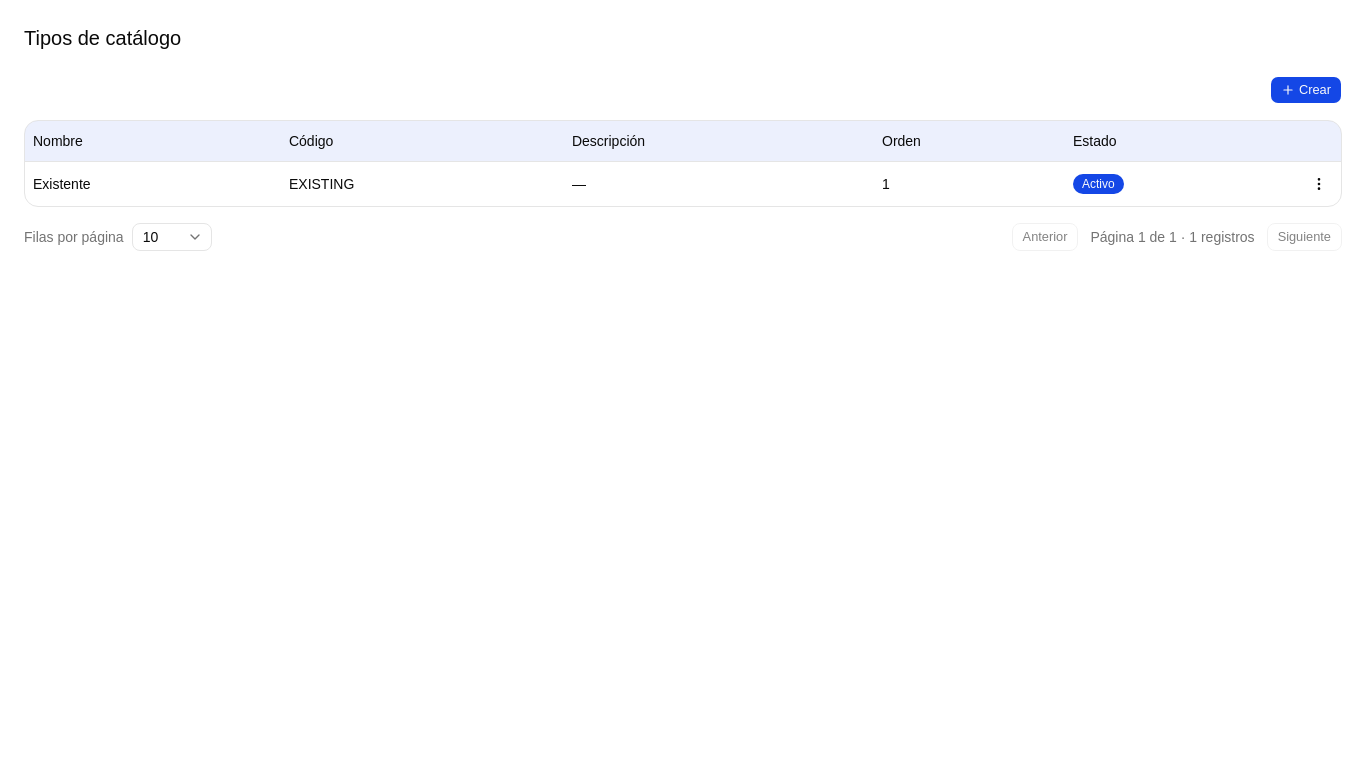
Test: CatalogTypeListPage — crear › crear un tipo lo hace aparecer en la tabla sin recargar
Expected: the text "Existente" is shown, [25, 161, 281, 206]
Click the button "Crear" at (1306, 90), box [1270, 76, 1342, 104]
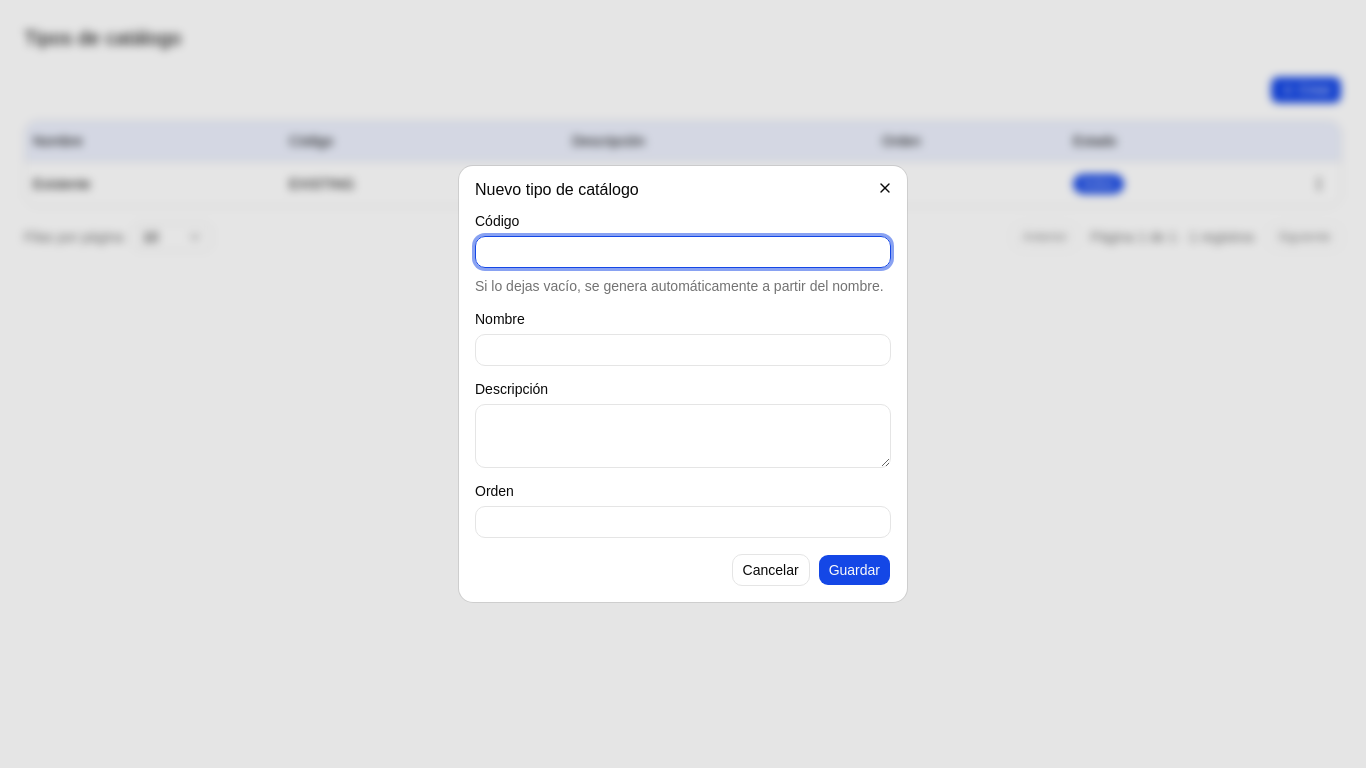
Type "Tipo nuevo" into the field labelled "Nombre" at (683, 350), box [475, 334, 891, 366]
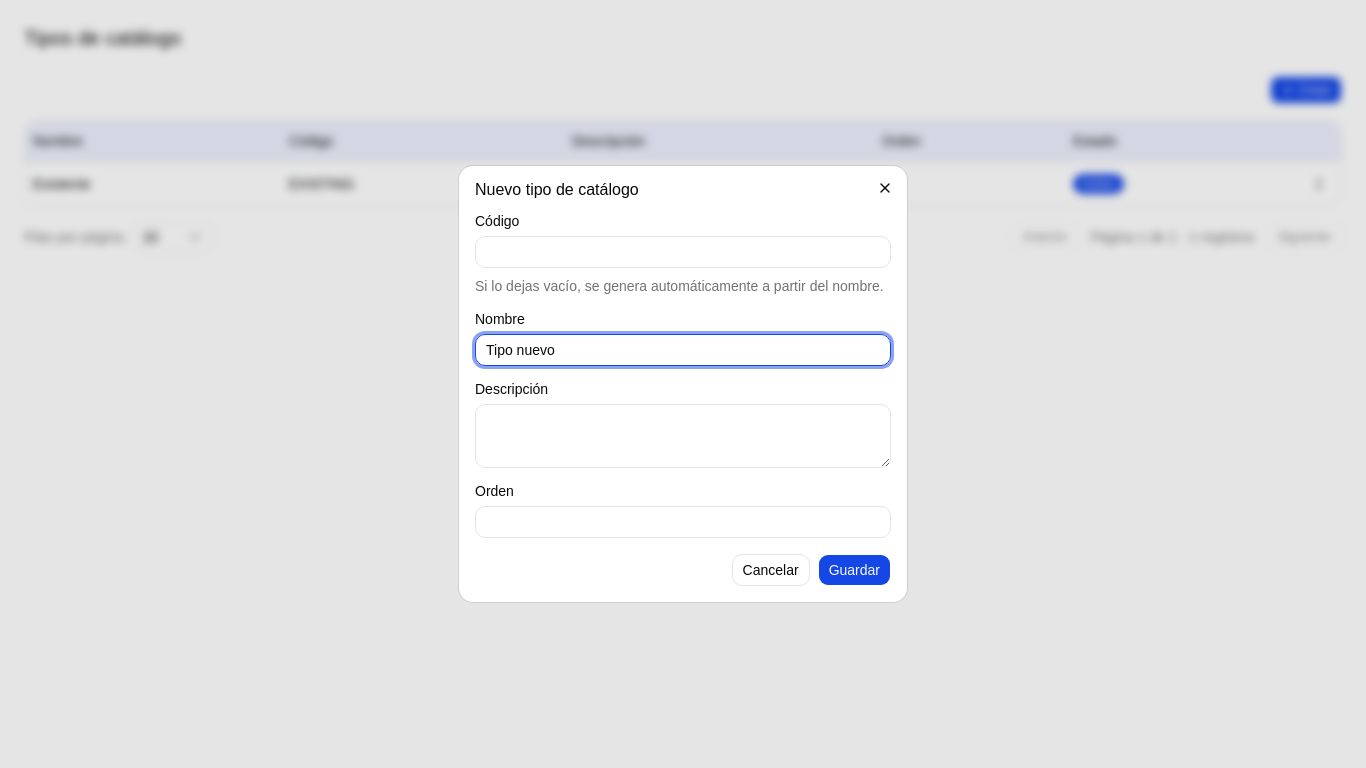
Click the button "Guardar" at (854, 570), box [818, 554, 891, 586]
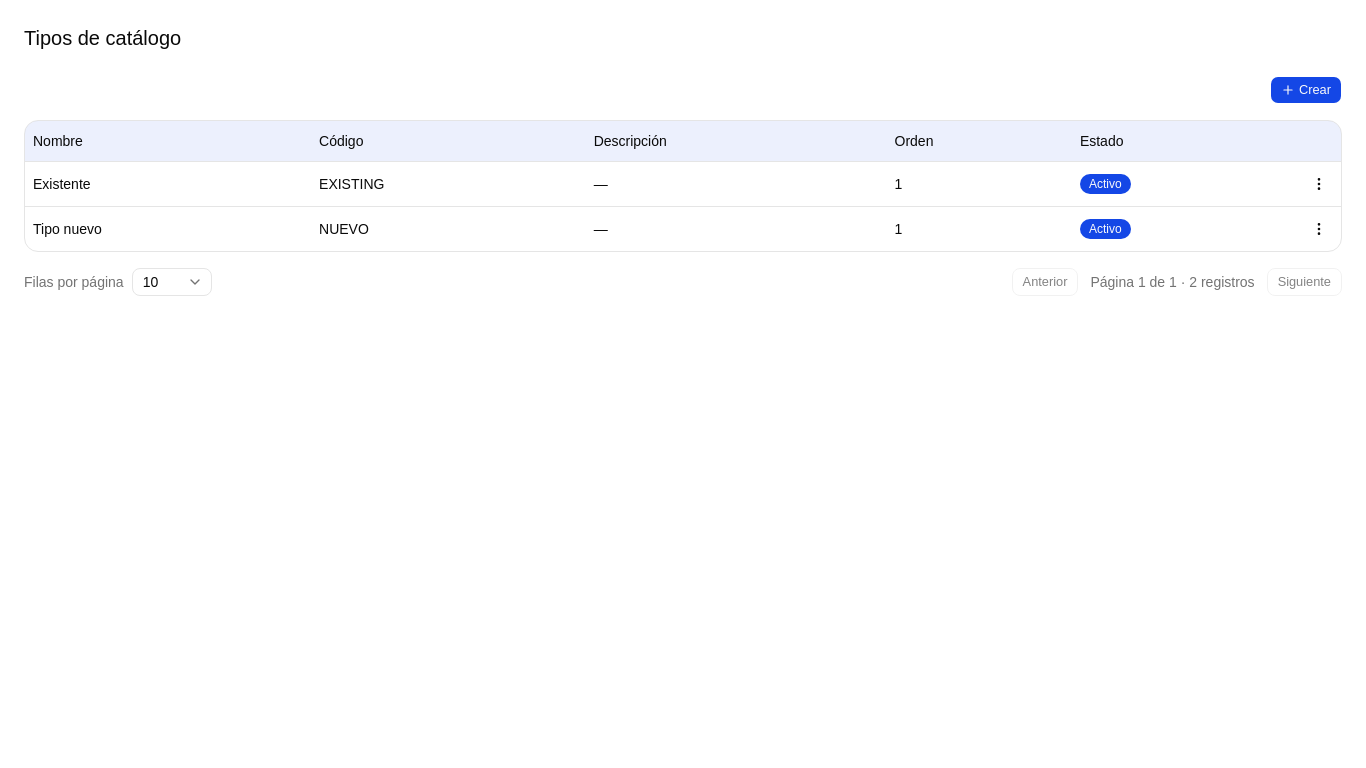
Now the text "Tipo nuevo" is shown, box [25, 206, 311, 250]
